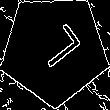L_SW: (26, 22, 83, 77)
